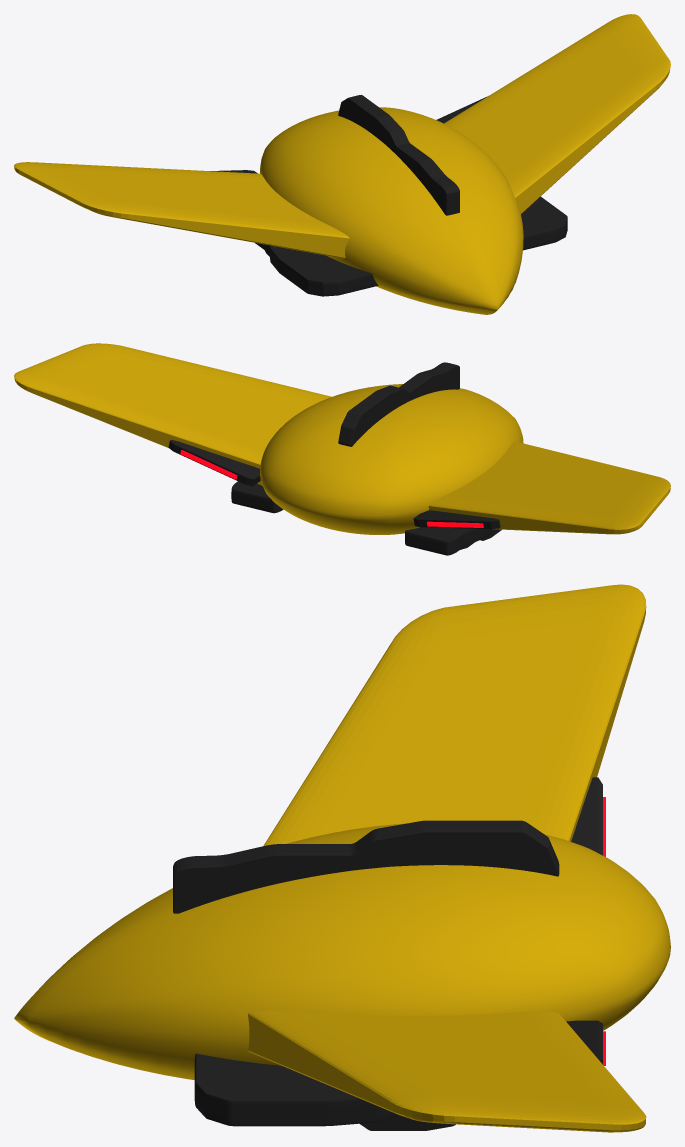
The model's file is Ship03.fbx.
The picture shows the model from 3 angles, top to bottom: view 1: azimuth 30°, elevation 25°; view 2: azimuth 150°, elevation 25°; view 3: azimuth 270°, elevation 25°; orthographic projection. The views are drawn at different scales.
Visible parts, largest first — view 1: Body, Left Wing, Right Wing, Mohawk, Right Engine, Left Engine; view 2: Body, Left Wing, Right Wing, Mohawk, Right Engine, Left Engine; view 3: Body, Right Wing, Left Wing, Mohawk, Left Engine, Left Ridge.
Part boxes in pixels (x1=…): Body: x1=260, y1=107, x2=523, y2=314; Left Wing: x1=436, y1=14, x2=670, y2=213; Right Wing: x1=14, y1=162, x2=349, y2=258; Mohawk: x1=338, y1=95, x2=459, y2=215; Right Engine: x1=255, y1=243, x2=378, y2=296; Left Engine: x1=521, y1=196, x2=567, y2=250; Body: x1=260, y1=384, x2=523, y2=534; Left Wing: x1=14, y1=343, x2=331, y2=486; Right Wing: x1=413, y1=441, x2=670, y2=534; Mohawk: x1=338, y1=362, x2=459, y2=446; Right Engine: x1=405, y1=527, x2=495, y2=555; Left Engine: x1=231, y1=481, x2=283, y2=513; Body: x1=14, y1=823, x2=670, y2=1079; Right Wing: x1=263, y1=584, x2=646, y2=856; Left Wing: x1=248, y1=1010, x2=646, y2=1132; Mohawk: x1=173, y1=820, x2=559, y2=913; Left Engine: x1=194, y1=1053, x2=399, y2=1126; Left Ridge: x1=359, y1=1115, x2=455, y2=1130.
Bounding box in the file's own units: 185 × 38.01 × 95.02.
